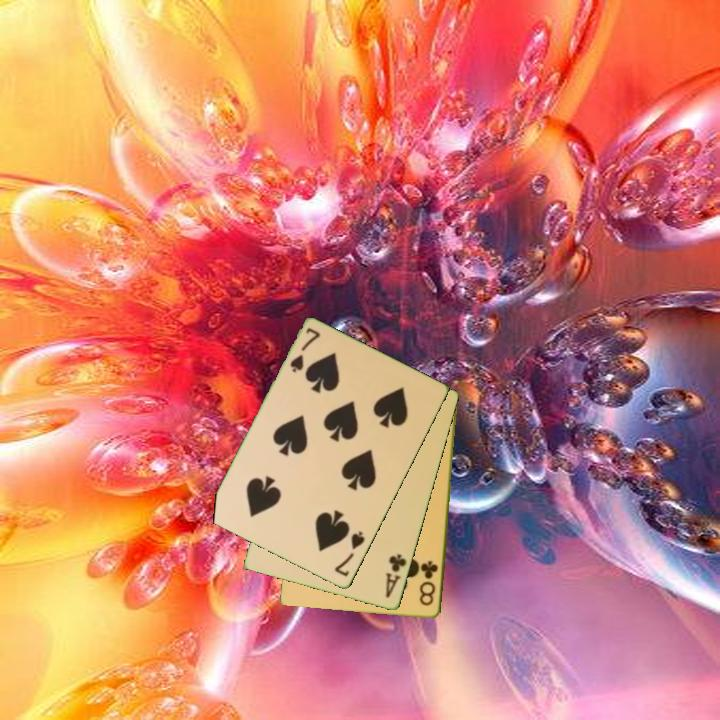7s: (331, 528, 368, 580), (286, 324, 323, 376)
8c: (416, 557, 441, 609)
Ac: (382, 551, 409, 601)
